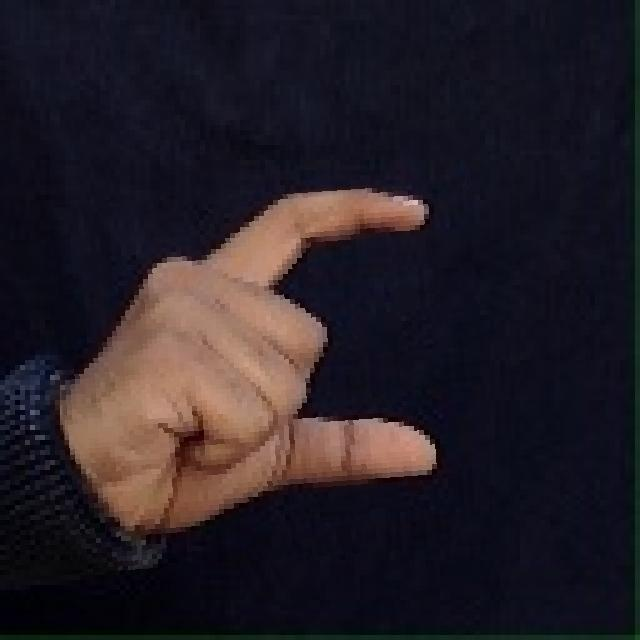C: (54, 185, 488, 566)
